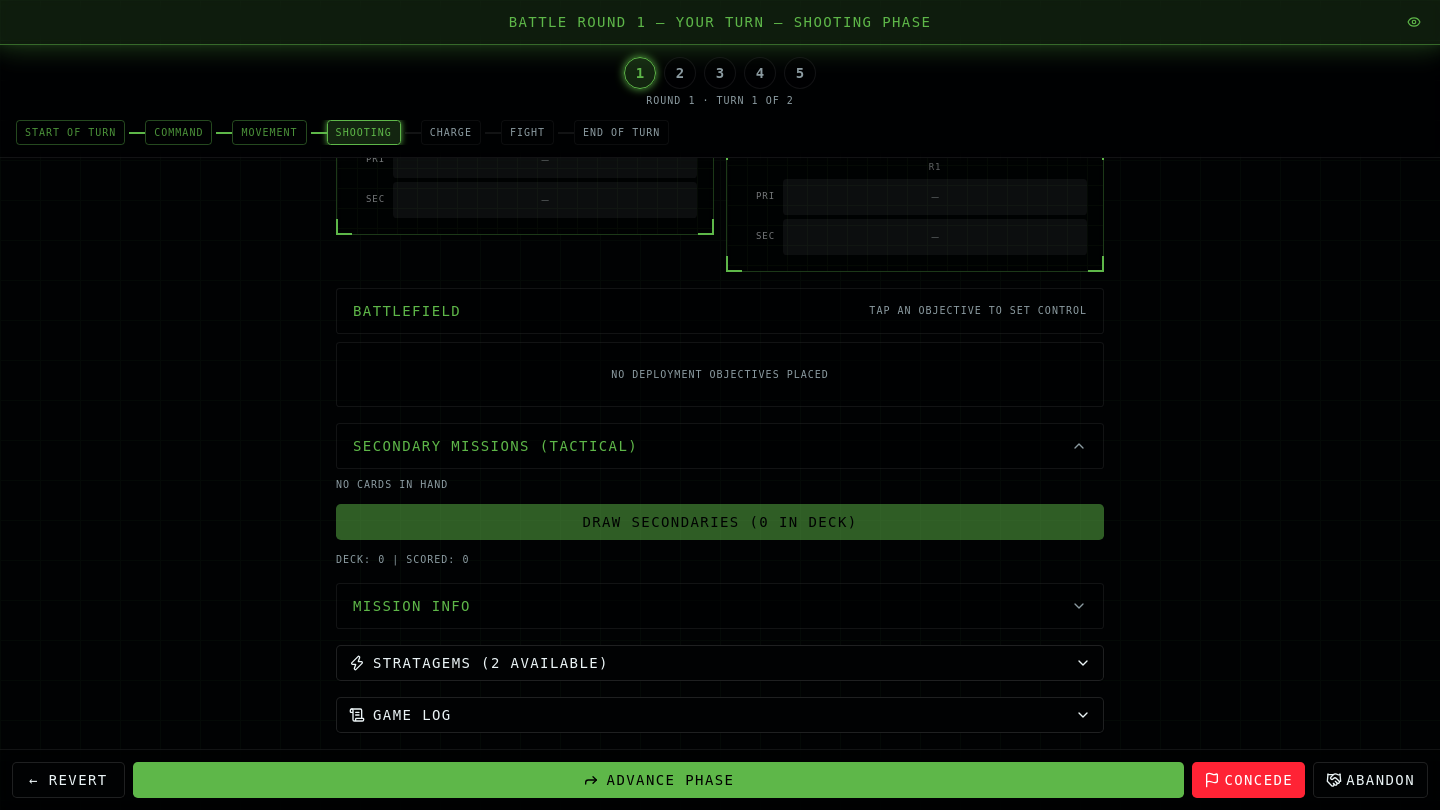
GamePage › filters stratagems by phase, turn, and detachment
The width and height of the screenshot is (1440, 810).
(page scrolled)
Expected: the text "Stratagems (2 available)" is shown, [349, 652, 609, 672]
Click the button "Stratagems (2 available)" at (491, 662), box [336, 644, 1104, 680]
(page scrolled)
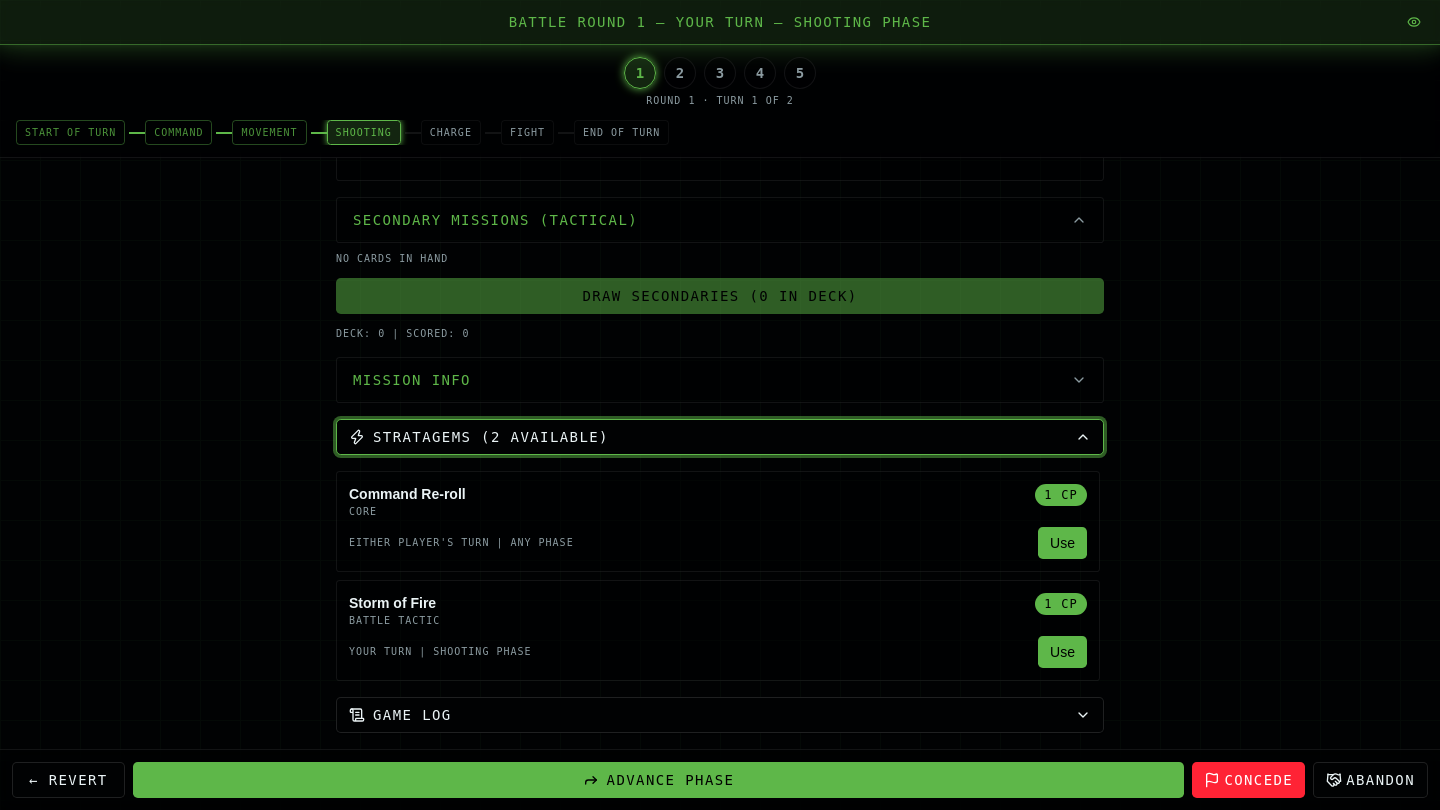
Expected: the heading "Command Re-roll" is shown, [349, 484, 466, 504]
Expected: the heading "Storm of Fire" is shown, [349, 592, 440, 612]
